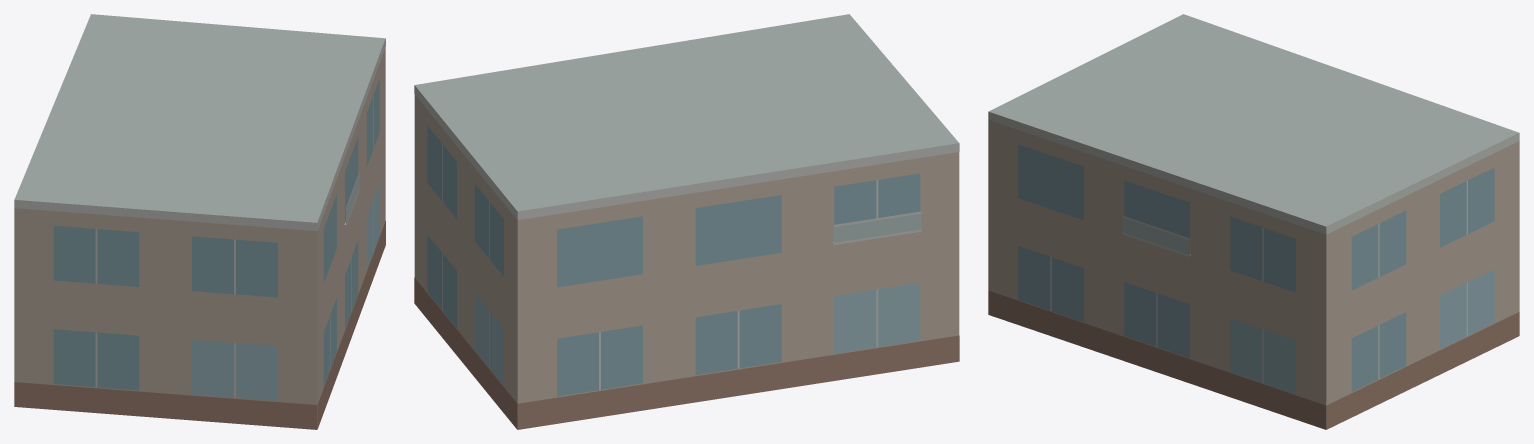
File: survey-upis-32716216.glb
3 views of the same model, side by side, from view 1: azimuth 30°, elevation 25°; view 2: azimuth 150°, elevation 25°; view 3: azimuth 270°, elevation 25° (orthographic). The views are drawn at different scales.
Parts seen in each view (by area): view 1: survey-upis-32716216.tmp; view 2: survey-upis-32716216.tmp; view 3: survey-upis-32716216.tmp.
Boxes of the visible parts, left/top/right/bottom form: survey-upis-32716216.tmp: left=14, top=14, right=385, bottom=429; survey-upis-32716216.tmp: left=414, top=14, right=959, bottom=429; survey-upis-32716216.tmp: left=988, top=14, right=1519, bottom=429.
Size of the model in its own units: 13.7 by 6.1 by 14.46.
